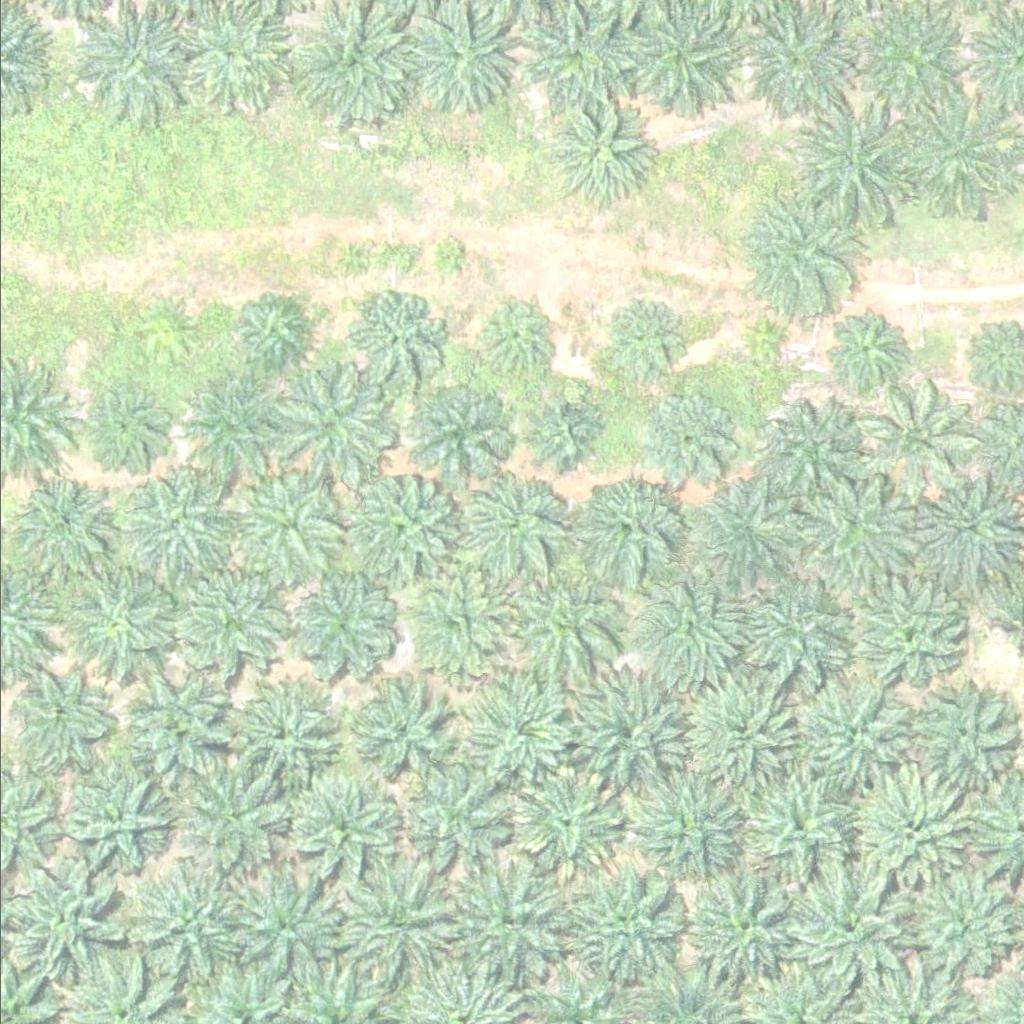Kelapa_Sawit: (840, 3, 966, 128), (884, 93, 1010, 218), (840, 576, 966, 701), (895, 673, 1021, 798), (840, 782, 966, 907), (786, 865, 912, 990), (683, 861, 809, 986), (564, 861, 690, 986), (444, 859, 570, 984), (329, 849, 455, 974), (794, 470, 920, 595), (791, 95, 917, 220), (270, 359, 396, 484), (221, 865, 347, 990), (127, 863, 253, 988), (738, 195, 863, 320), (740, 773, 854, 886), (632, 773, 746, 886), (860, 382, 973, 495), (904, 873, 1017, 986), (507, 568, 620, 681), (401, 562, 514, 675), (340, 474, 453, 587), (456, 464, 569, 577), (572, 474, 685, 587), (690, 479, 803, 592), (537, 95, 650, 208), (290, 572, 403, 685), (220, 680, 333, 793), (175, 567, 288, 680), (62, 567, 175, 680), (124, 665, 237, 778), (680, 676, 794, 788), (791, 680, 905, 792), (522, 1, 636, 113), (172, 759, 286, 871), (511, 767, 624, 879), (395, 766, 508, 878), (342, 673, 455, 785), (466, 673, 579, 785), (568, 680, 681, 792), (734, 572, 847, 684), (633, 571, 746, 683), (751, 399, 864, 511), (738, 1, 851, 113), (286, 774, 399, 886), (224, 472, 337, 584), (173, 373, 286, 485), (117, 468, 230, 580), (60, 761, 173, 873), (634, 392, 735, 492), (403, 384, 504, 484), (8, 476, 109, 576), (8, 664, 109, 764), (341, 288, 441, 388), (595, 297, 683, 385), (467, 295, 555, 383), (819, 307, 907, 395), (84, 385, 172, 472), (231, 294, 307, 369), (525, 396, 600, 471), (746, 330, 784, 368), (426, 238, 464, 275)
